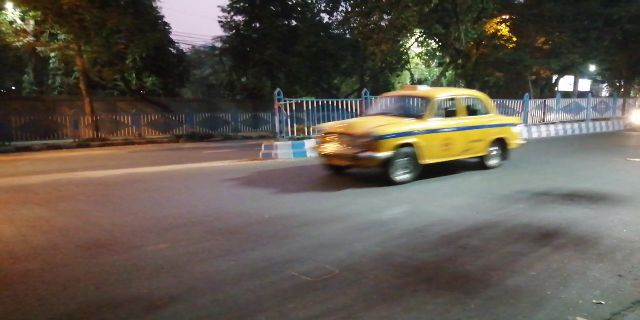Car: (316, 81, 520, 186)
